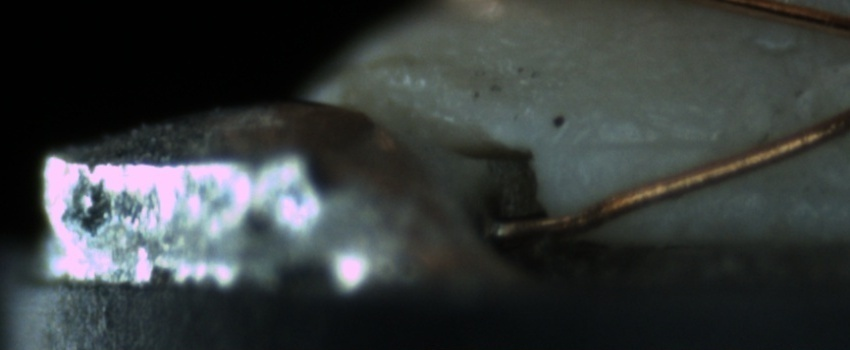DL: (572, 111, 726, 177)
